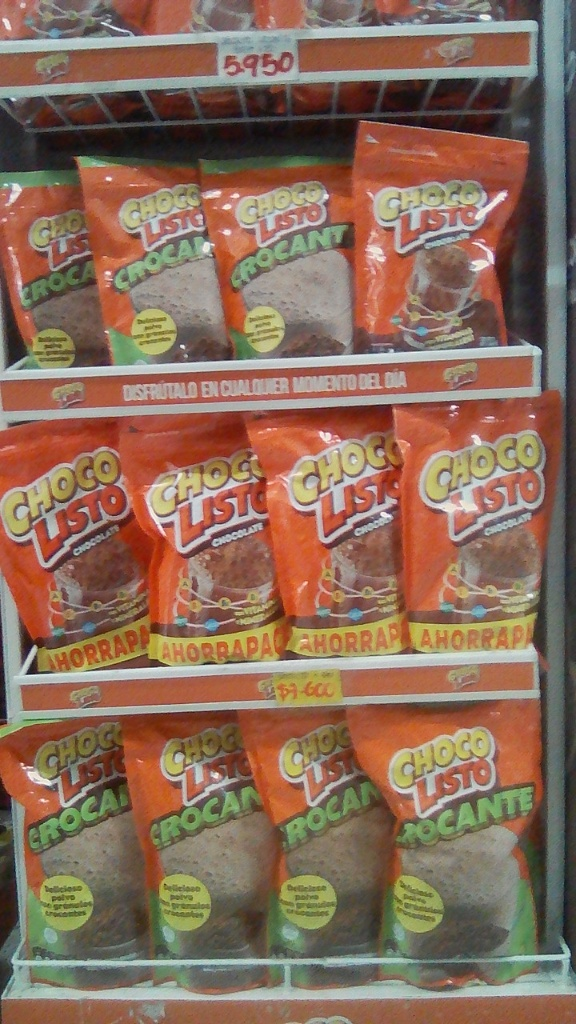COL0170102DYP25000: (208, 159, 361, 363)
COL0170103DYP20000: (356, 122, 525, 348)
COL0170103DYP40000: (401, 400, 564, 648)
